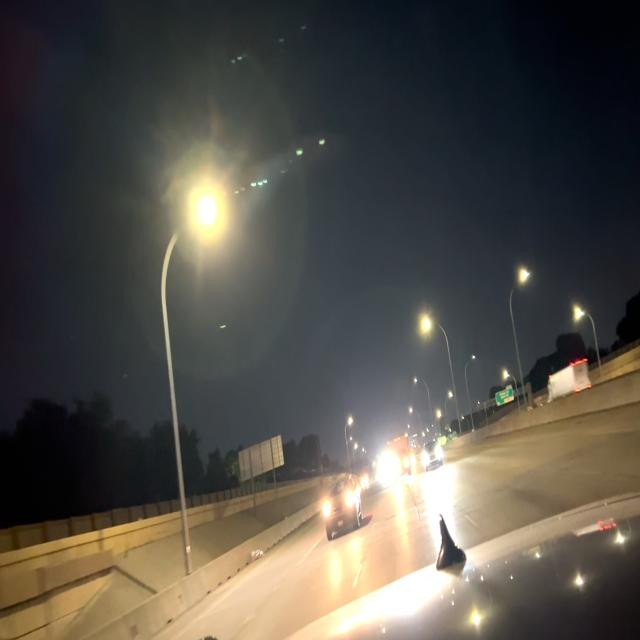back-of-sign: (237, 432, 285, 485)
